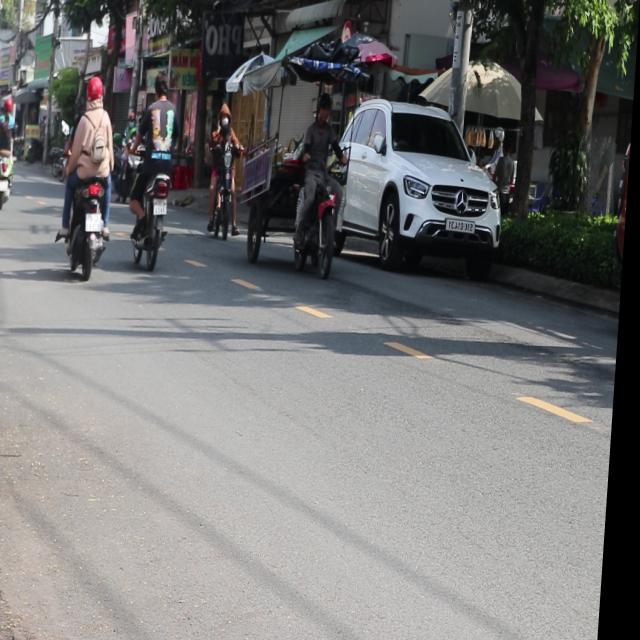helmet: (87, 75, 108, 108)
licenseplate: (58, 73, 125, 279), (129, 68, 184, 270), (293, 88, 349, 276)
motorcyclist: (318, 90, 335, 124), (155, 69, 173, 99)
nohelmet: (88, 212, 105, 230), (156, 198, 171, 214)
